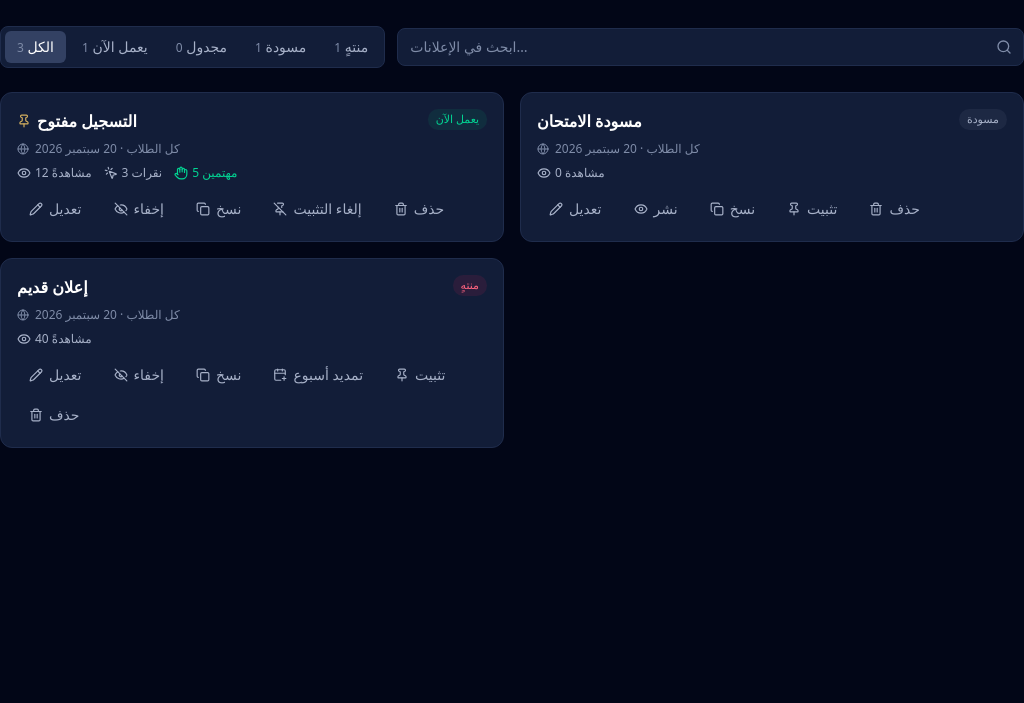
announcements manager › duplicates an announcement into a new unpublished draft
This screenshot has width=1024, height=703.
Click the button "نسخ" below "12 مشاهدةً".
click(219, 209)  # box [184,193,253,225]
(page scrolled)
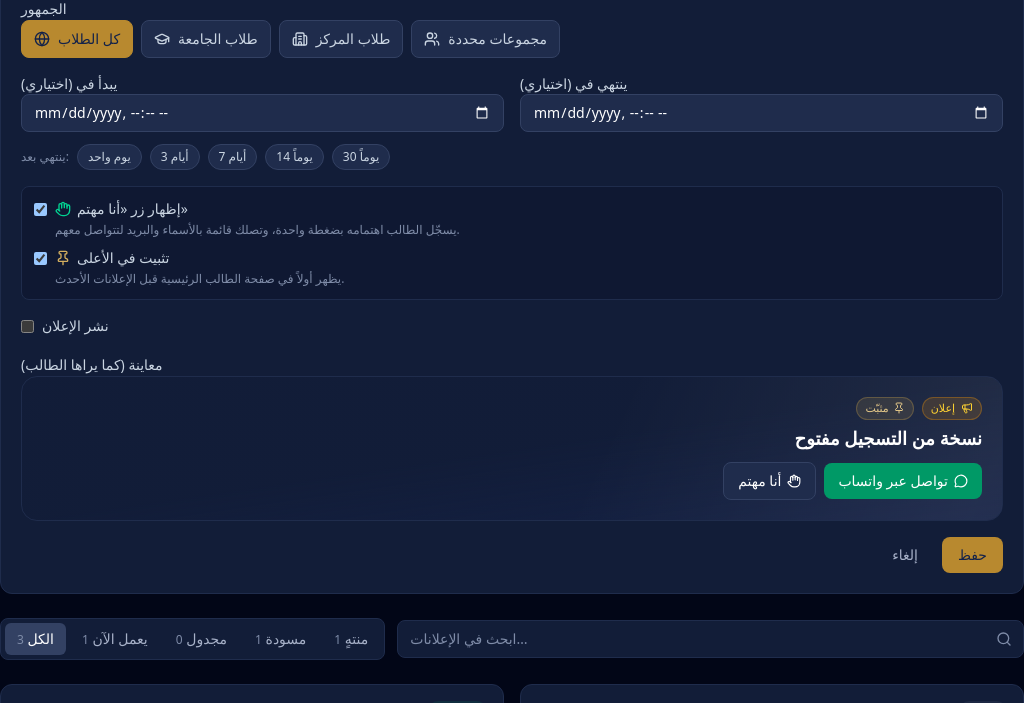
Result: the checkbox labelled "نشر الإعلان" is not checked at [21,320,34,332]
